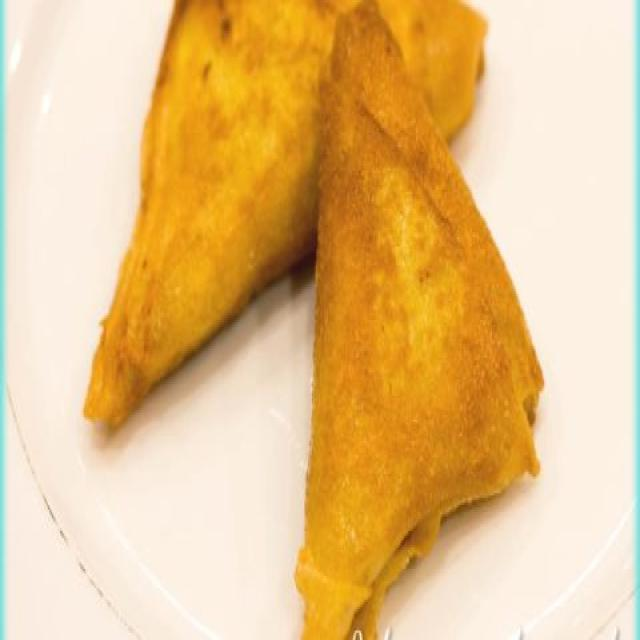brik: (299, 64, 559, 621)
